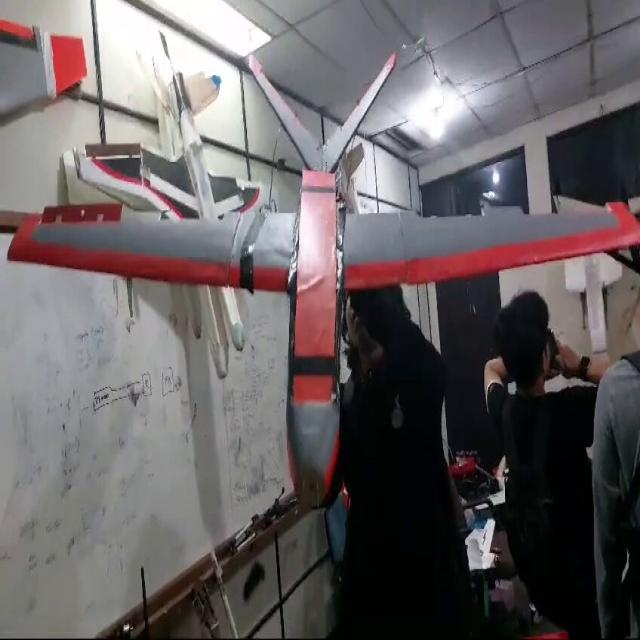plane: (2, 29, 638, 509)
